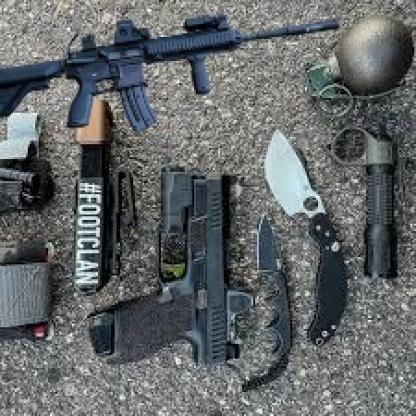Grenade: (328, 118, 398, 278), (307, 14, 416, 116)
Gun: (0, 10, 340, 132)
Knife: (264, 130, 348, 347), (254, 215, 293, 372)
Pistol: (88, 165, 255, 367)
